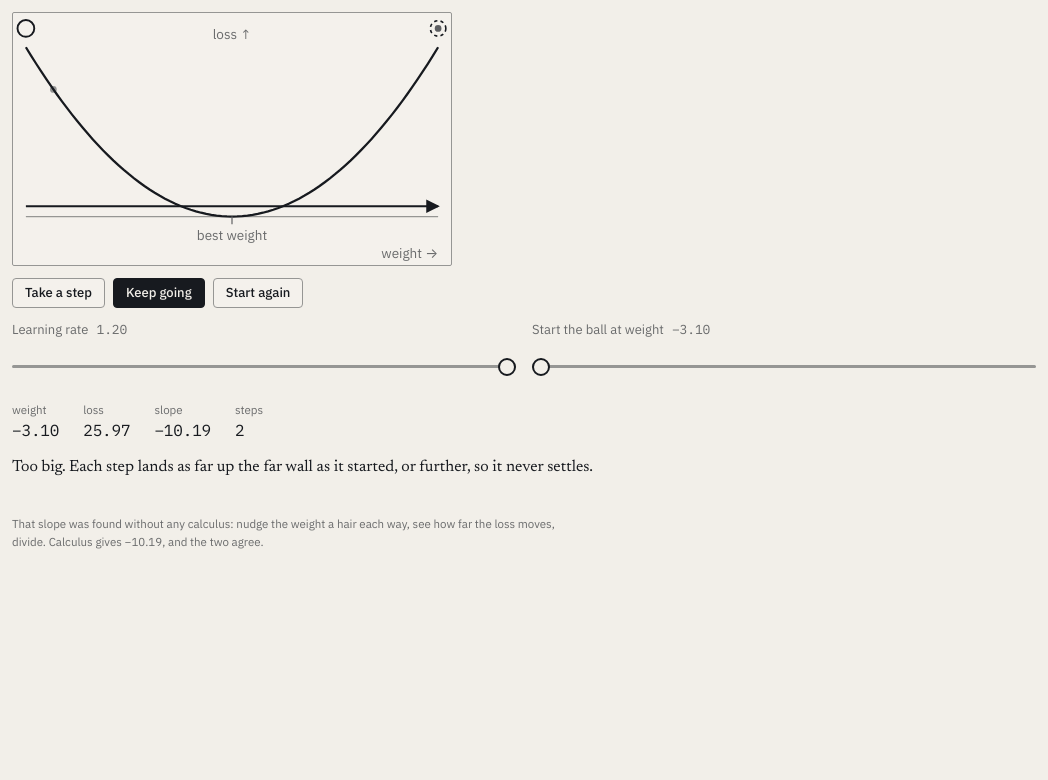
Test: <GradientDescent1D> › flies off the chart at a high rate, and says what that means
Earlier steps of the test are not shown.
Step 1. Click the button "Take a step" → (58, 294), box [12, 278, 105, 308]
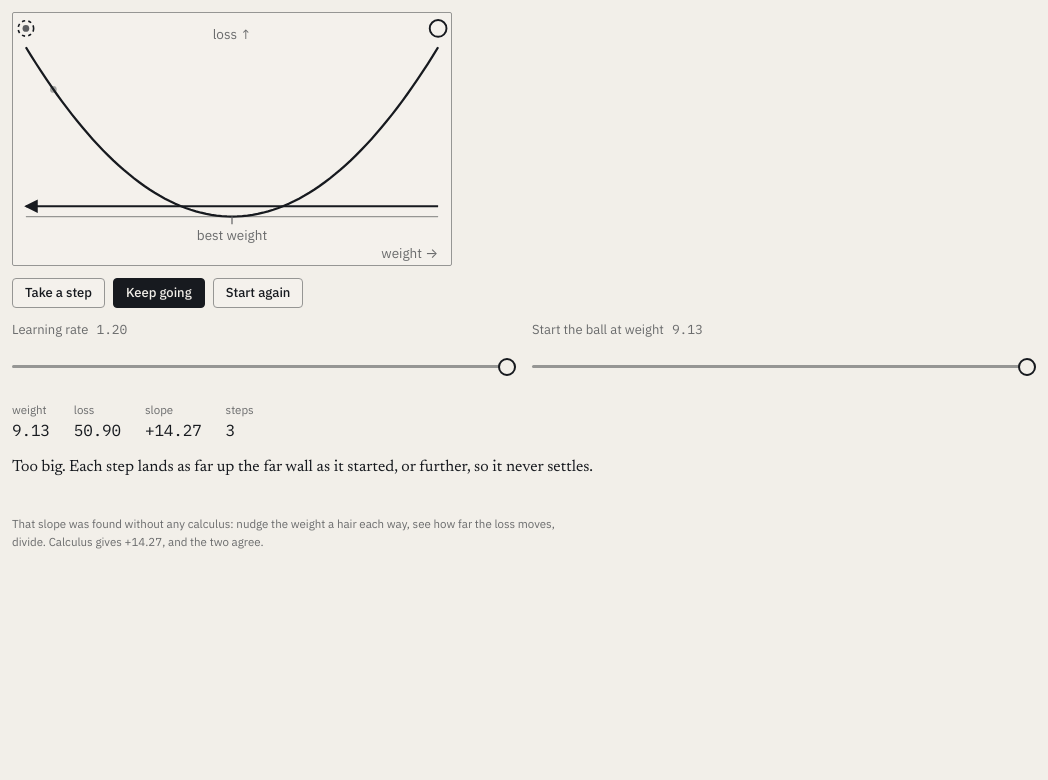
Step 2. Click the button "Take a step" → (58, 294), box [12, 278, 105, 308]
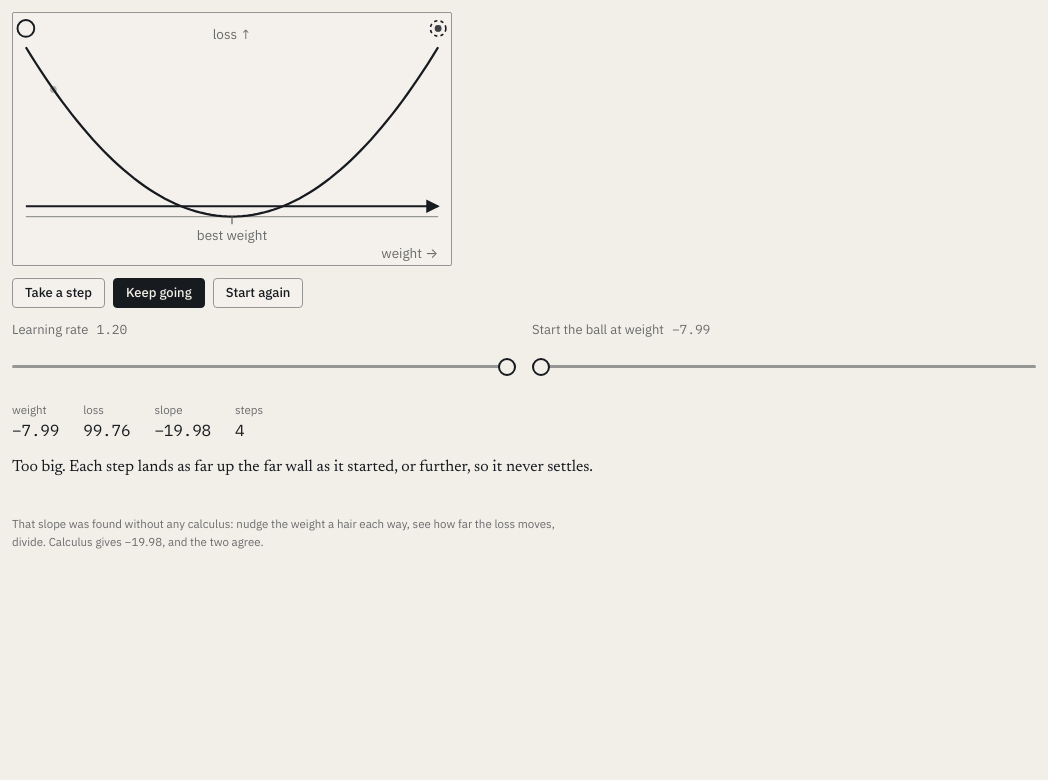
Step 3. Click the button "Take a step" → (58, 294), box [12, 278, 105, 308]
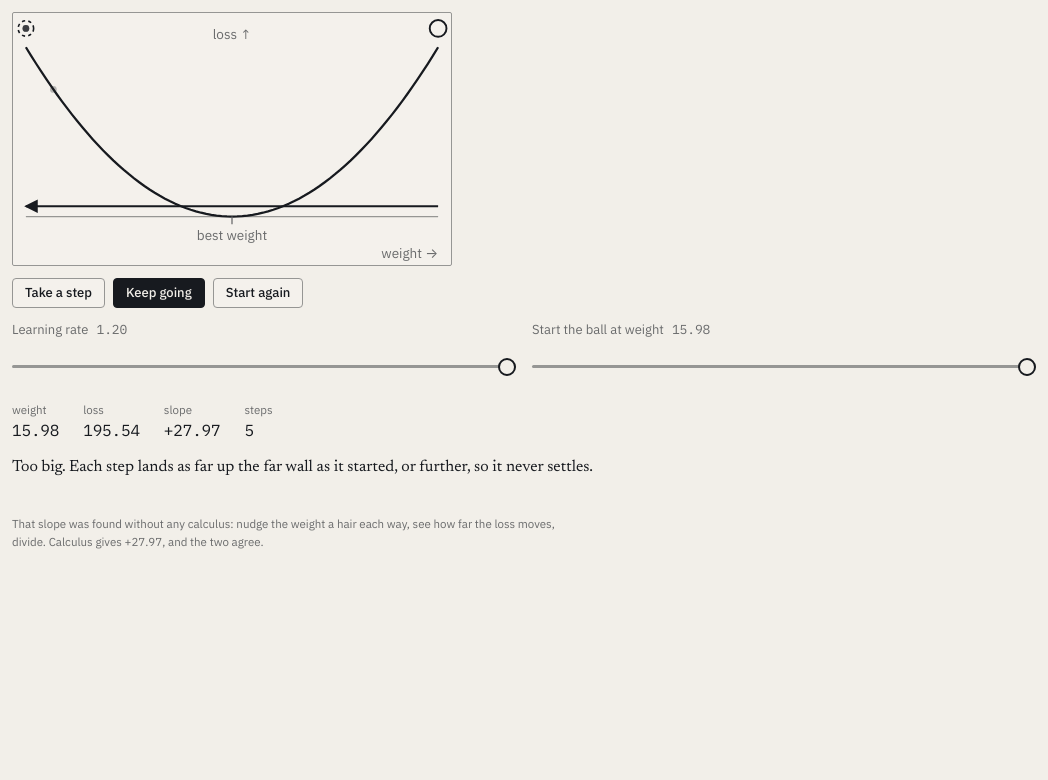
Step 4. Click the button "Take a step" → (58, 294), box [12, 278, 105, 308]
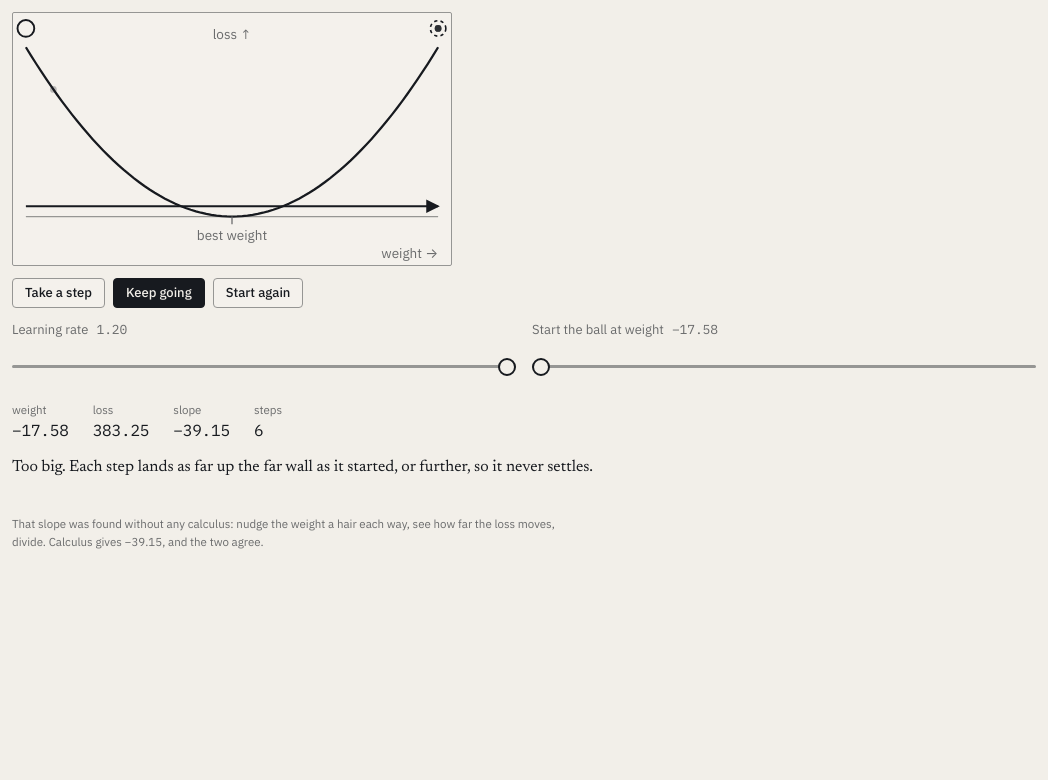
Step 5. Click the button "Take a step" → (58, 294), box [12, 278, 105, 308]
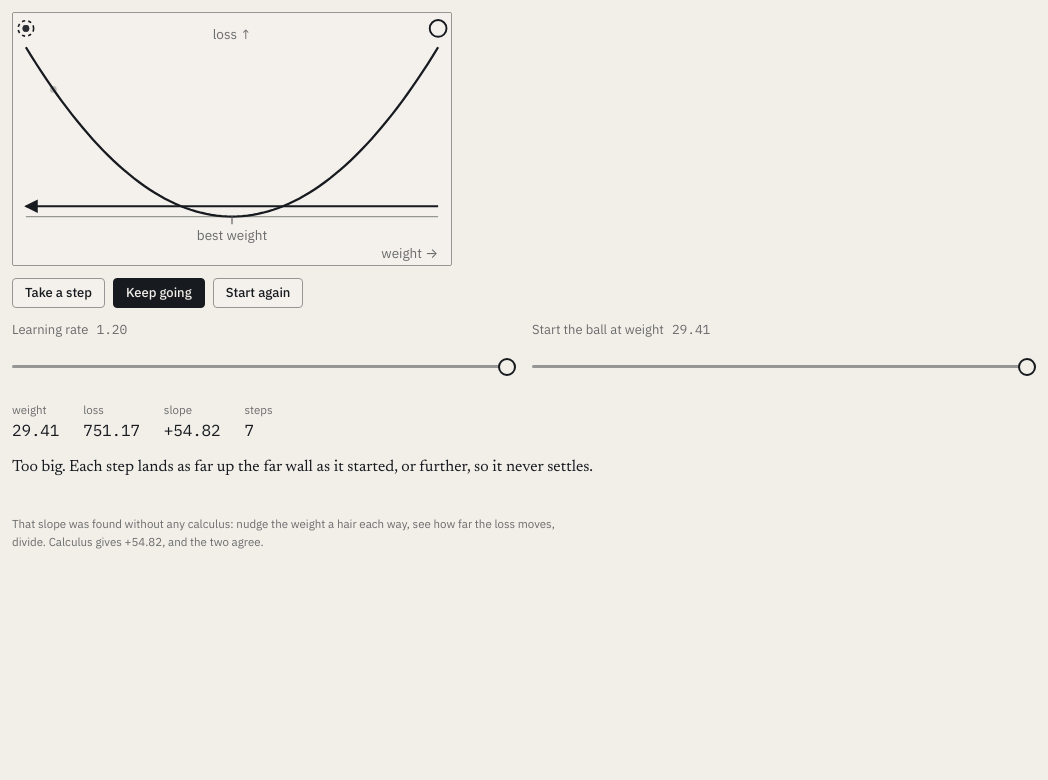
Step 6. Click the button "Take a step" → (58, 294), box [12, 278, 105, 308]
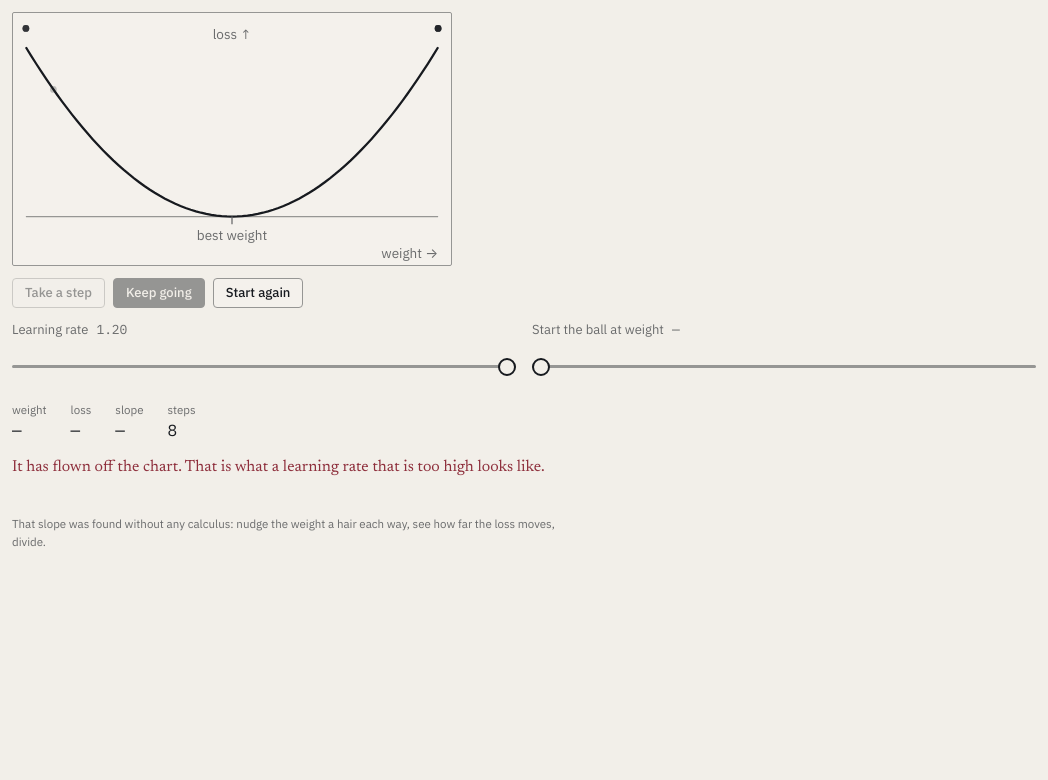
Check: the message shows "flown off the chart", box [12, 459, 545, 475]
Check: the button "Take a step" is disabled, box [12, 278, 105, 308]
